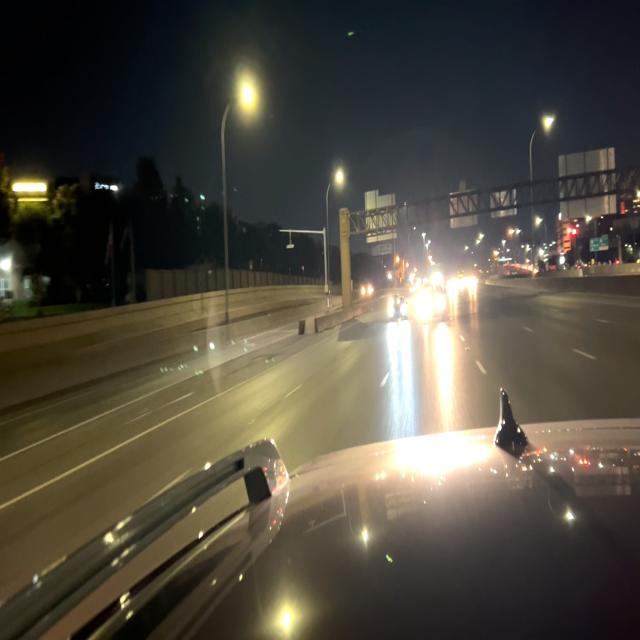back-of-sign: (557, 145, 619, 220), (363, 188, 398, 244), (449, 179, 479, 230), (489, 183, 519, 219)
